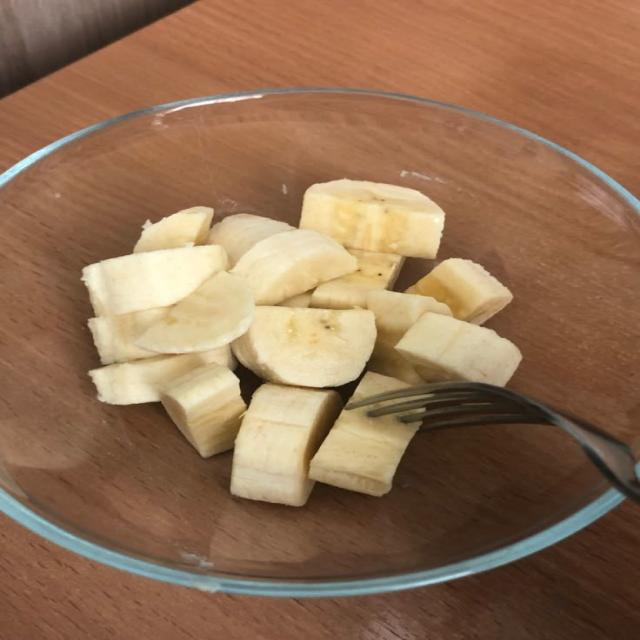banana slice: (231, 385, 341, 506), (233, 306, 375, 387), (300, 179, 444, 258), (82, 246, 227, 316), (309, 405, 417, 495), (136, 272, 254, 353), (232, 230, 357, 305), (396, 312, 521, 386), (89, 346, 233, 405), (160, 363, 246, 457), (367, 291, 451, 384), (407, 259, 513, 324), (311, 250, 404, 308), (88, 307, 170, 364), (208, 214, 294, 266), (134, 207, 213, 253), (279, 291, 312, 307)
